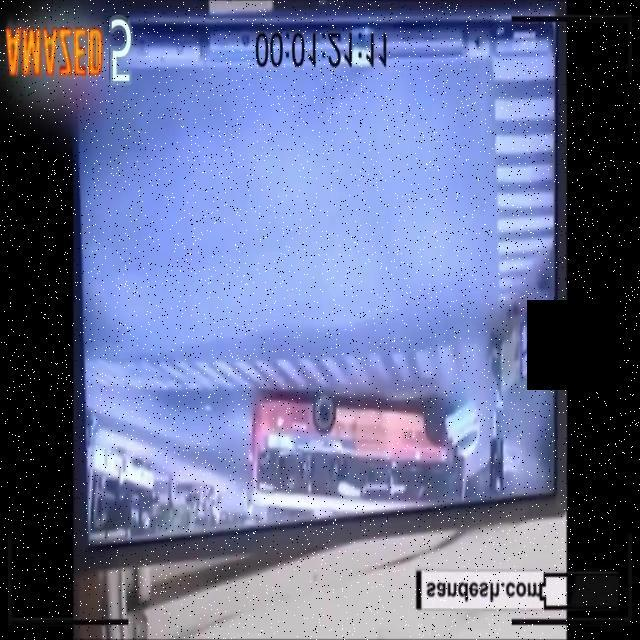severe: (244, 390, 482, 524)
